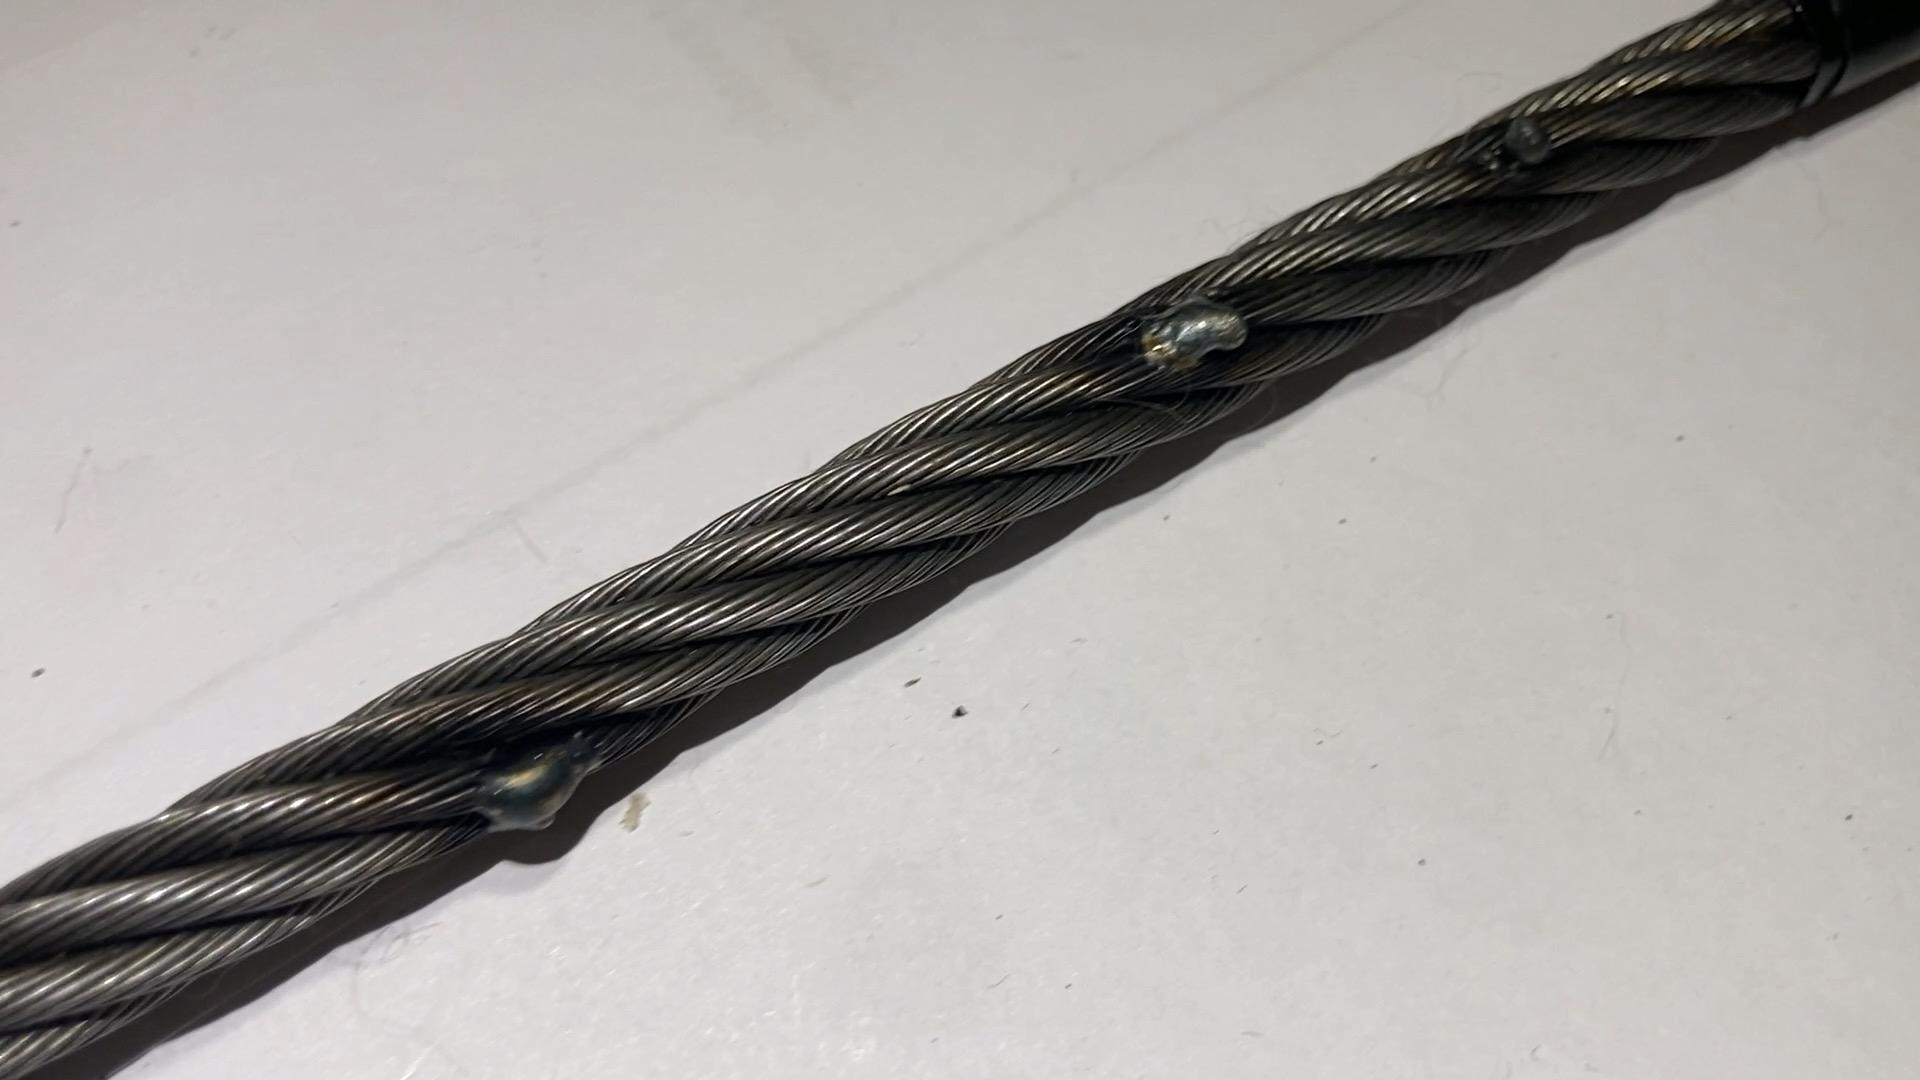thunderbolt: (440, 720, 611, 820), (1141, 301, 1244, 371)
